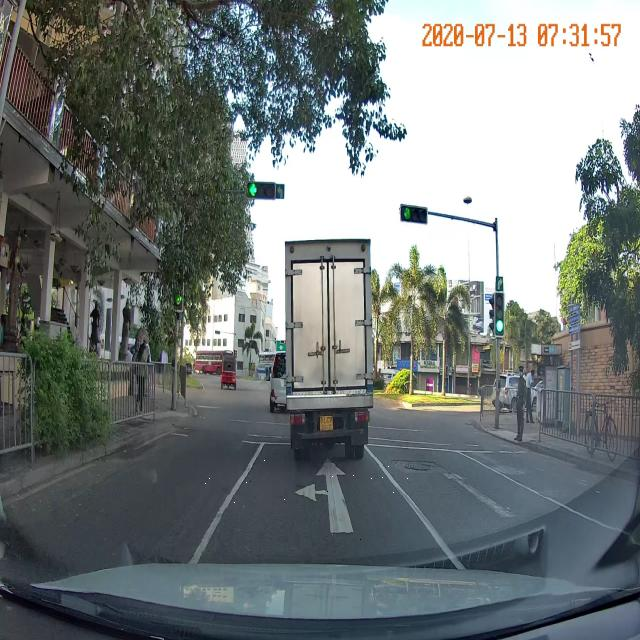forward_lft: (197, 457, 448, 540), (224, 465, 410, 495)
